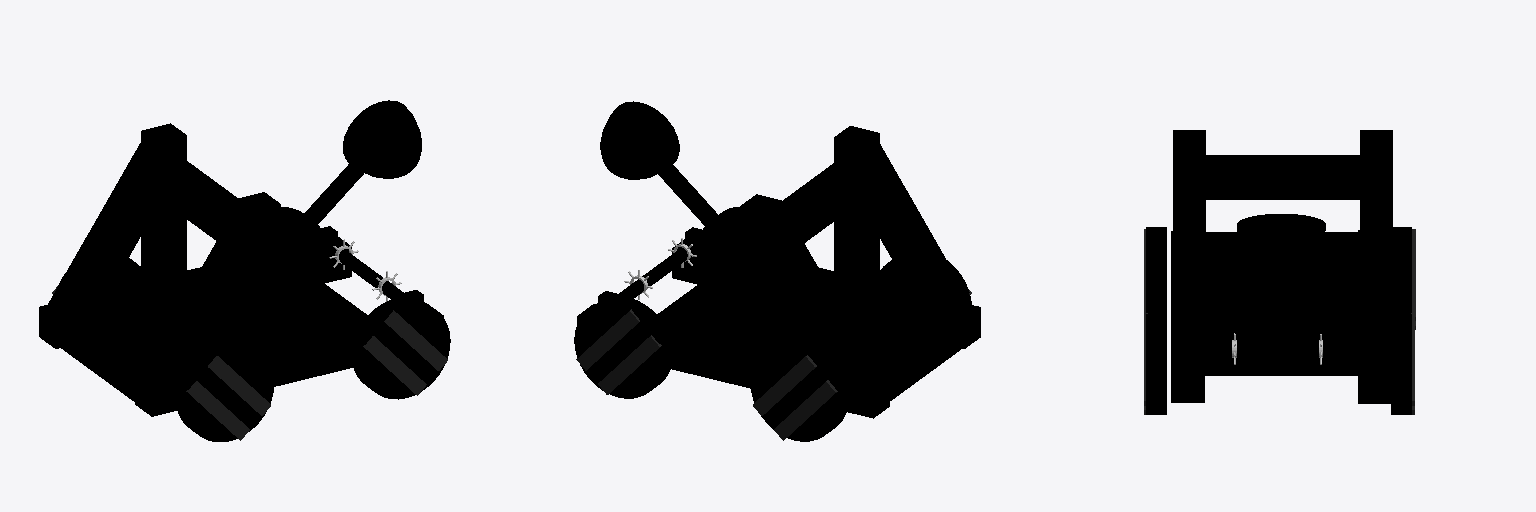
File: catapulte.obj
The picture shows the model from 3 angles: view 1: azimuth 30°, elevation 25°; view 2: azimuth 150°, elevation 25°; view 3: azimuth 270°, elevation 25°; orthographic projection.
Visible parts, largest first — view 1: Cube.10, Cube.9, Cylindre.1, Cylindre, Cube.8, Cube, Booléen.1, Cube.7, Cube.3, Cube.11, Cube.1, Cube.2 (+10 smaller); view 2: Cube.9, Cube.10, Cube.7, Cylindre.3, Cylindre.2, Booléen.1, Cube.1, Cube.8, Cube.3, Cube.11, Cube.2, Cube (+10 smaller); view 3: Cube.11, Cube.8, Cube.7, Cube.2, Booléen.1, Cube.4, Cube, Cube.1, Cube.6, Cube.5, Cylindre, Pyramide (+5 smaller).
Part boxes in pixels (x1,y1,x2,y2): Cube.10: (48,141,186,315); Cube.9: (142,209,280,383); Cylindre.1: (175,340,273,441); Cylindre: (352,297,450,399); Cube.8: (235,192,280,357); Cube: (135,304,443,416); Booléen.1: (343,100,421,178); Cube.7: (141,123,186,292); Cube.3: (56,310,150,401); Cube.11: (158,161,237,240); Cube.1: (39,237,351,348); Cube.2: (281,258,367,329); Cube.9: (834,143,972,317); Cube.10: (769,211,879,397); Cube.7: (740,194,785,362); Cylindre.3: (574,296,672,398); Cylindre.2: (751,339,848,441); Booléen.1: (600,101,679,179); Cube.1: (577,304,889,418); Cube.8: (834,126,879,297); Cube.3: (870,312,961,400); Cube.11: (783,163,862,242); Cube.2: (657,260,739,330); Cube: (672,239,980,348); Cube.11: (1198,155,1366,199); Cube.8: (1173,130,1205,293); Cube.7: (1360,130,1392,296); Cube.2: (1202,331,1366,375); Booléen.1: (1237,214,1325,277); Cube.4: (1199,305,1366,330); Cube: (1171,231,1204,402); Cube.1: (1358,230,1391,403); Cube.6: (1206,256,1359,280); Cube.5: (1199,281,1366,304); Cylindre: (1146,313,1166,414); Pyramide: (1249,272,1313,313).
Bounding box in the file's own units: 599 × 407 × 438.